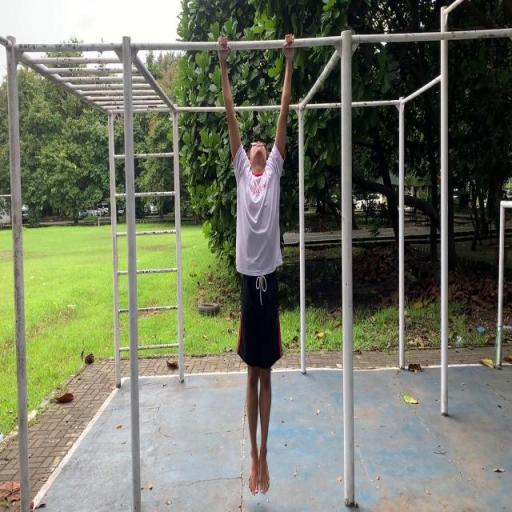Normal_BrenchPress: (216, 32, 296, 496)
